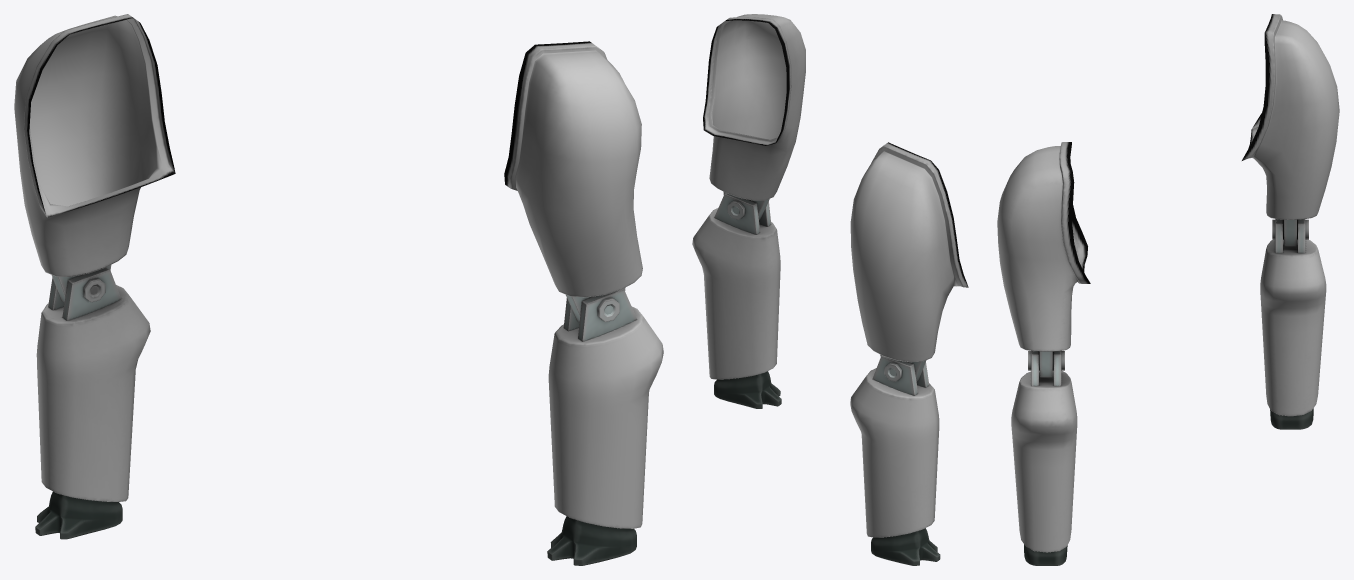
The model's file is right_front_leg.obj.
The picture shows the model from 3 angles, left to right: view 1: azimuth 30°, elevation 25°; view 2: azimuth 150°, elevation 25°; view 3: azimuth 270°, elevation 25°; orthographic projection. The views are drawn at different scales.
Parts seen in each view (by area): view 1: Useless_Dog__Leg_front_right, Useless_Dog__Leg_back_right1; view 2: Useless_Dog__Leg_front_right, Useless_Dog__Leg_back_right1; view 3: Useless_Dog__Leg_back_right1, Useless_Dog__Leg_front_right.
Part boxes in pixels (x1,y1,x2,y2): Useless_Dog__Leg_front_right: [14, 14, 175, 539]; Useless_Dog__Leg_back_right1: [504, 41, 663, 565]; Useless_Dog__Leg_front_right: [850, 142, 968, 565]; Useless_Dog__Leg_back_right1: [692, 14, 805, 408]; Useless_Dog__Leg_back_right1: [997, 142, 1090, 565]; Useless_Dog__Leg_front_right: [1242, 14, 1339, 429].
Size of the model in its own units: 1.93 by 1.96 by 1.53.
